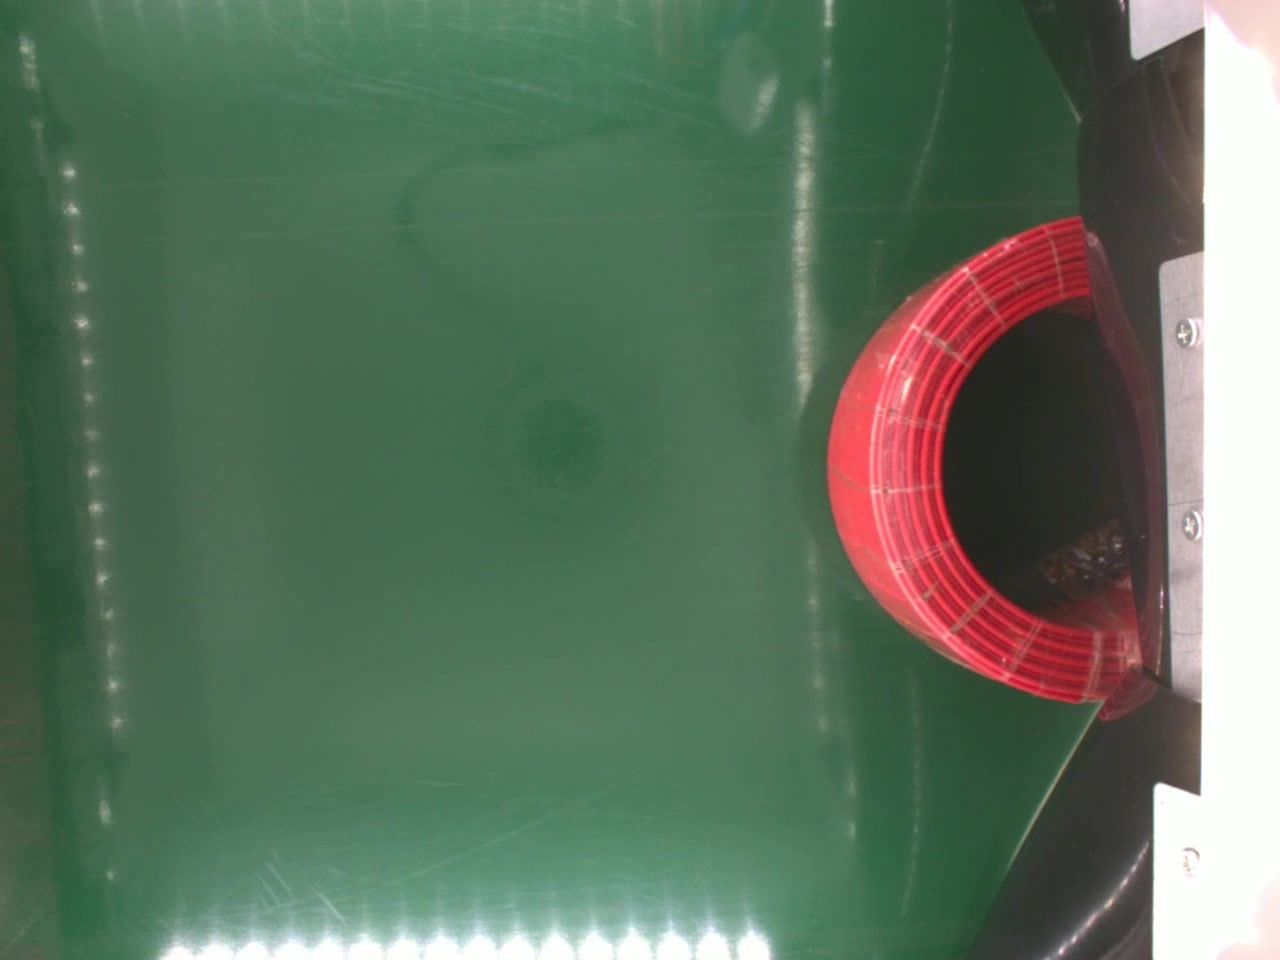red: (825, 211, 1149, 708)
